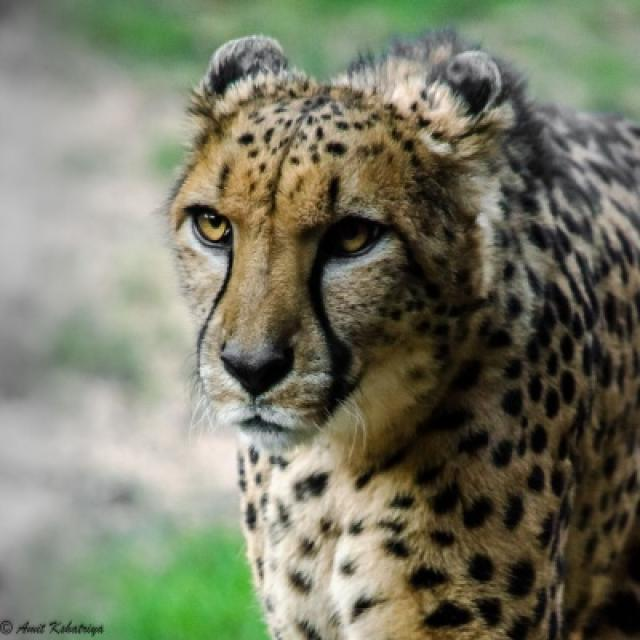Cheetah: (162, 29, 638, 638)
